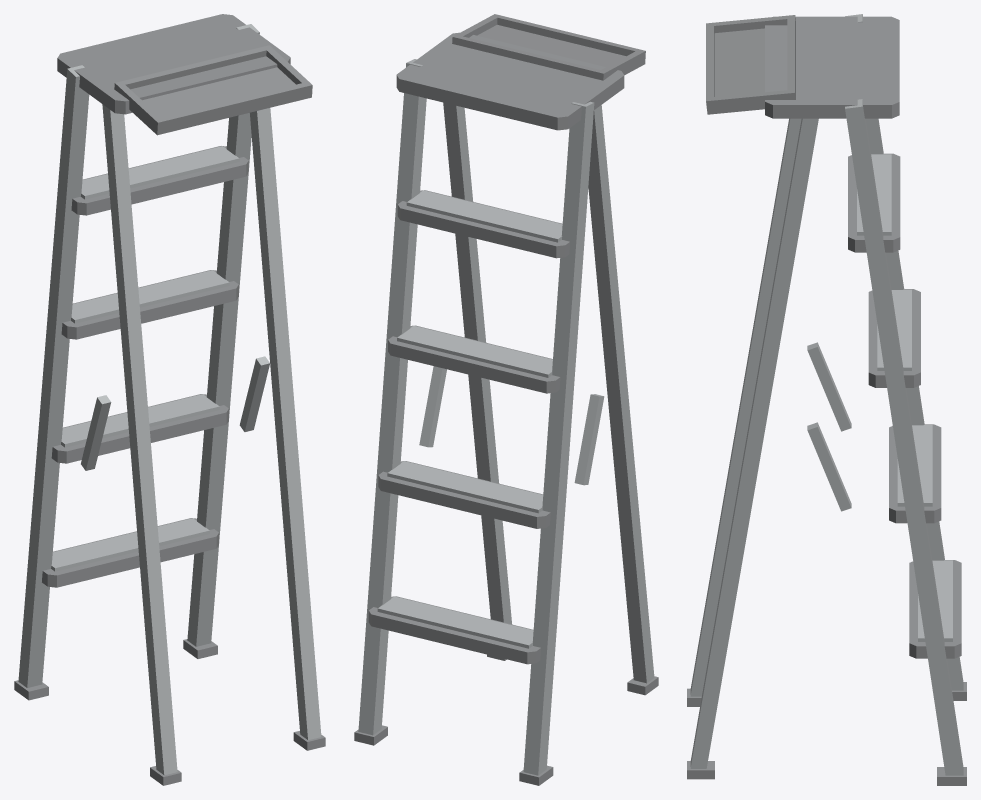
File: SM_LPI_Util_Ladder_01.fbx
3 renders of one model, left to right at view 1: azimuth 30°, elevation 25°; view 2: azimuth 150°, elevation 25°; view 3: azimuth 270°, elevation 25°, orthographic. The views are drawn at different scales.
Visible parts, largest first — view 1: SM_LPI_Util_Ladder_01; view 2: SM_LPI_Util_Ladder_01; view 3: SM_LPI_Util_Ladder_01.
Part boxes in pixels (left/top/right/bottom): SM_LPI_Util_Ladder_01: left=14, top=14, right=325, bottom=785; SM_LPI_Util_Ladder_01: left=354, top=14, right=658, bottom=785; SM_LPI_Util_Ladder_01: left=687, top=14, right=966, bottom=785.
Bounding box in the file's own units: 0.452 × 1.52 × 0.562.
